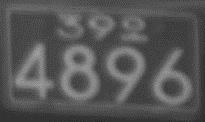3: (55, 12, 84, 40)
4: (14, 42, 53, 99)
6: (152, 48, 193, 104)
8: (61, 44, 99, 101)
9: (106, 46, 145, 103), (87, 13, 114, 42)
오: (120, 15, 148, 42)
